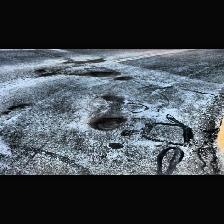pothole: (198, 130, 222, 174), (92, 118, 125, 130), (90, 70, 120, 78), (10, 104, 31, 112), (116, 76, 131, 80)
